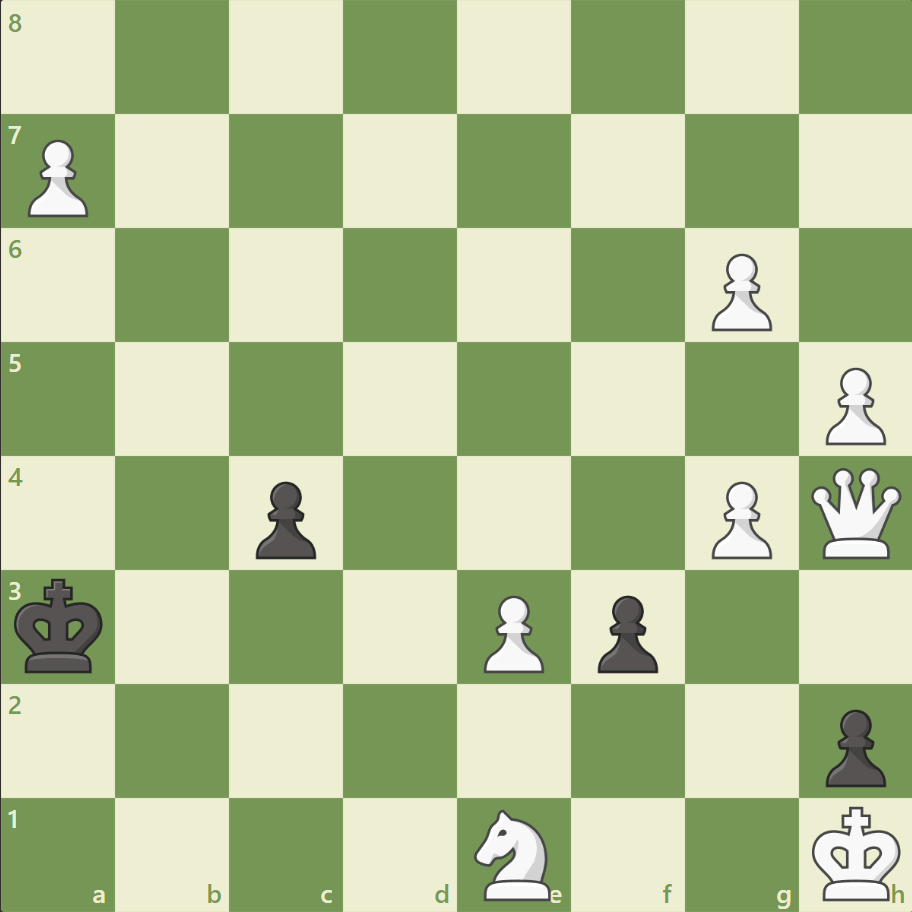K: (806, 798, 906, 906)
N: (465, 802, 562, 904)
P: (20, 132, 95, 223), (701, 246, 776, 337), (701, 473, 776, 564), (474, 586, 549, 677), (815, 359, 889, 450)
Q: (805, 463, 904, 562)
k: (11, 571, 111, 679)
p: (247, 473, 322, 564), (588, 586, 662, 677), (815, 700, 889, 791)
